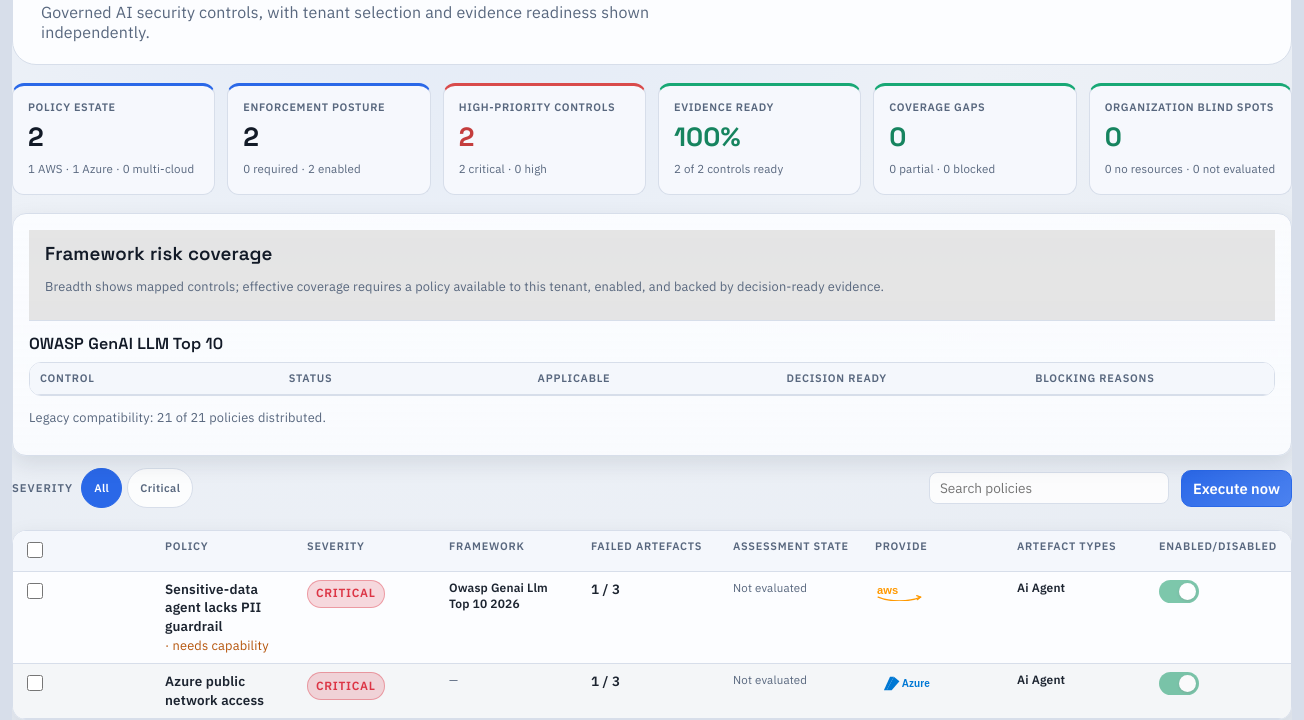
it: AiPoliciesPage › renders one policy list and opens metadata in the policy overview
This screenshot has width=1304, height=720.
(page scrolled)
Expected: the text "Sensitive-data agent lacks PII guardrail" is shown, x1=165 y1=580 x2=261 y2=635
Expected: the checkbox named "Select Sensitive-data agent lacks PII guardrail" is shown, x1=27 y1=583 x2=43 y2=599
Click the text "Sensitive-data agent lacks PII guardrail" at (652, 617), box x1=13 y1=571 x2=1291 y2=663
(page scrolled)
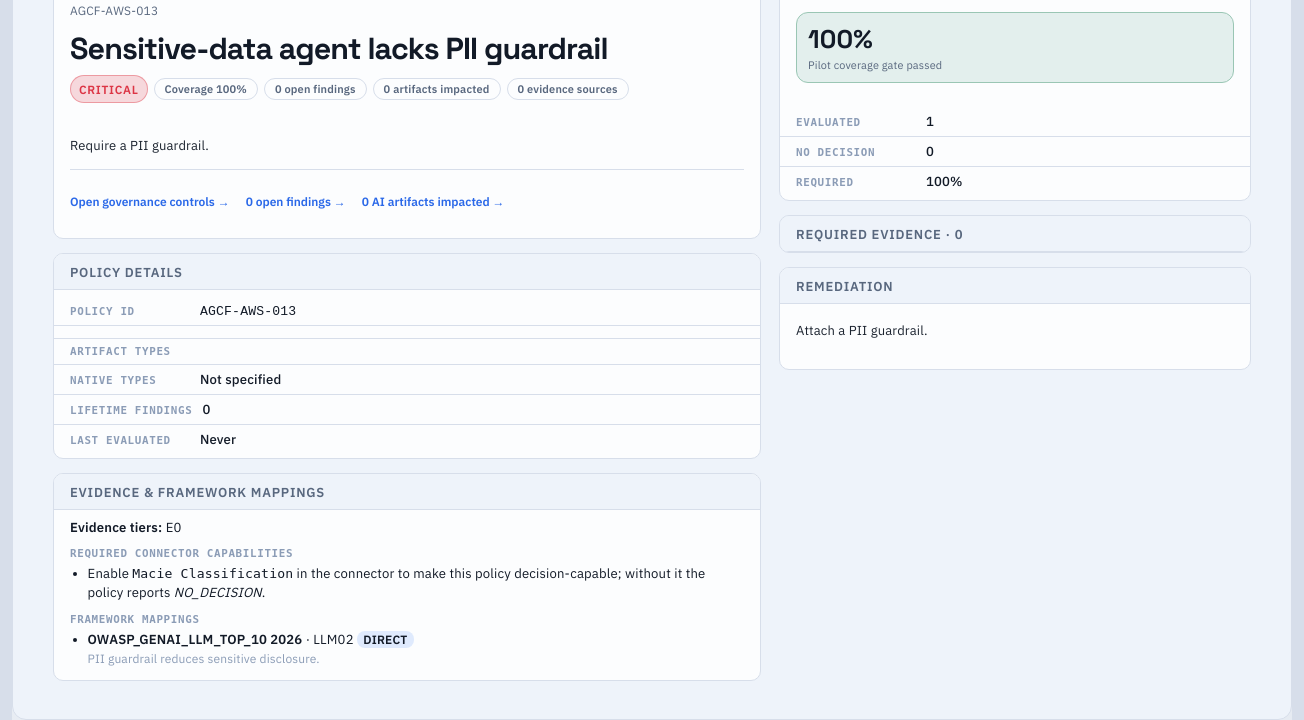
Result: the text "Required connector capabilities" is shown at x1=70 y1=547 x2=293 y2=560
Result: the text "DIRECT" is shown at x1=357 y1=631 x2=414 y2=648
Result: the text "PII guardrail reduces sensitive disclosure." is shown at x1=88 y1=651 x2=320 y2=666
